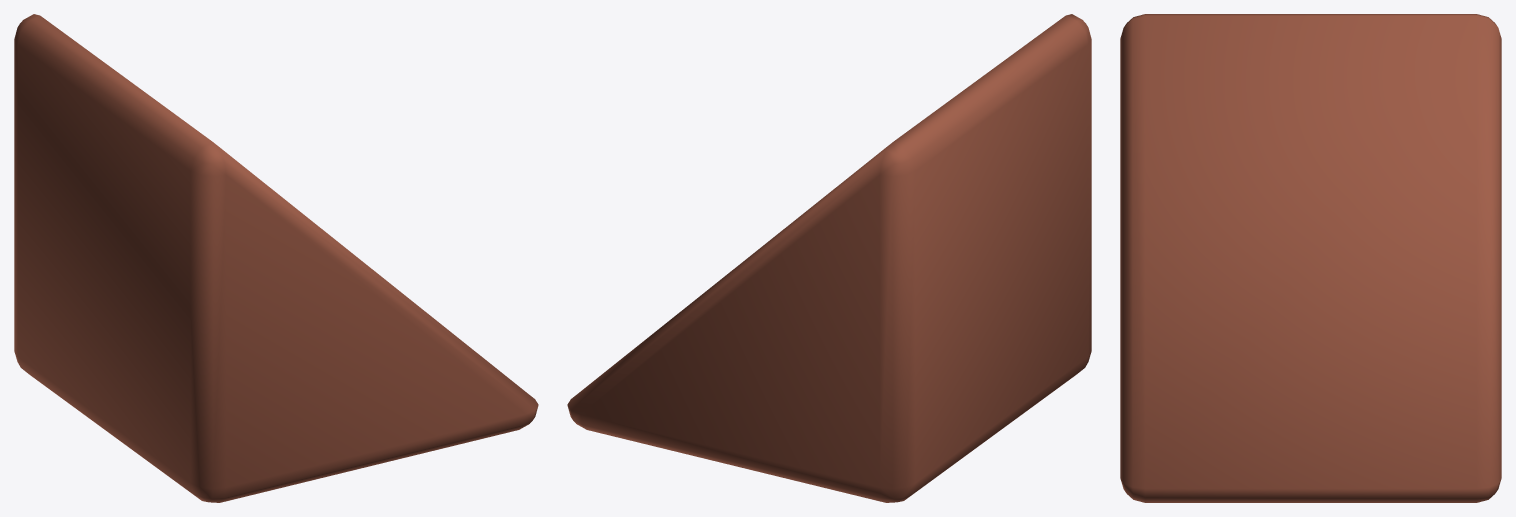
File: tileSlope.fbx
3 renders of one model, left to right at view 1: azimuth 30°, elevation 25°; view 2: azimuth 150°, elevation 25°; view 3: azimuth 270°, elevation 25°, orthographic. The views are drawn at different scales.
Visible parts, largest first — view 1: tileMedium_forest; view 2: tileMedium_forest; view 3: tileMedium_forest.
Boxes of the visible parts, x1,y1,x2,y2 form: tileMedium_forest: (14, 14, 538, 502); tileMedium_forest: (567, 14, 1091, 502); tileMedium_forest: (1120, 14, 1501, 502).
Size of the model in its own units: 100 by 99.66 by 100.
